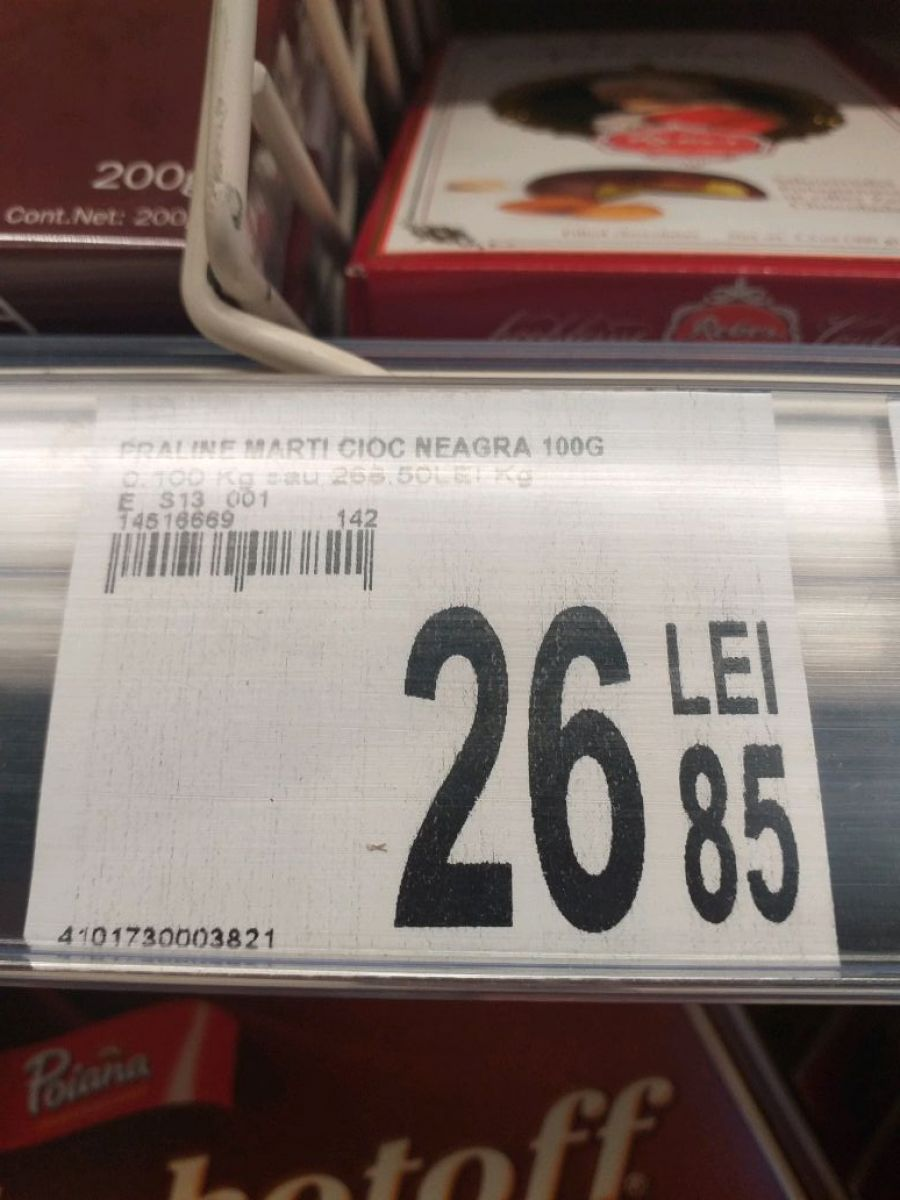price_bani: (662, 736, 817, 939)
price_lei: (375, 596, 656, 946)
price_tag: (12, 354, 876, 1004)
product_id: (54, 914, 287, 966)
product_name: (107, 428, 643, 465)
